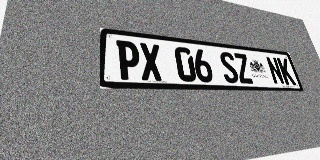0: (174, 46, 197, 82)
6: (191, 48, 214, 82)
K: (276, 58, 296, 85)
N: (265, 56, 285, 85)
P: (116, 40, 141, 80)
S: (218, 51, 240, 83)
X: (139, 42, 163, 81)
Z: (233, 53, 254, 84)
